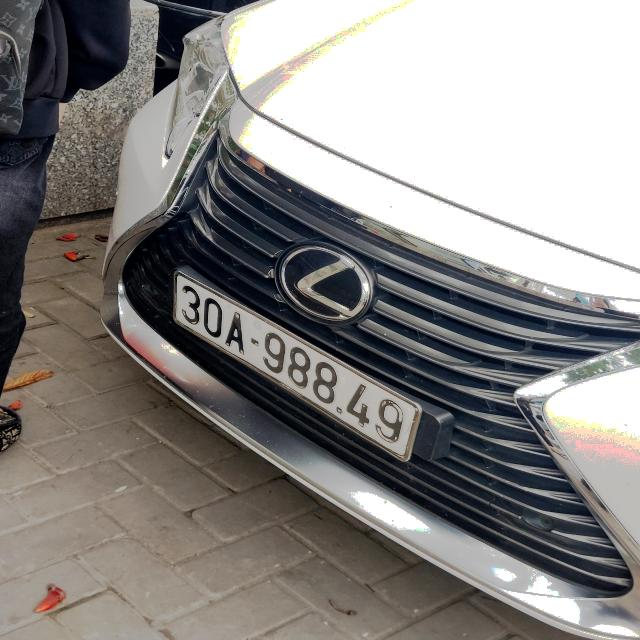license_plate: (175, 270, 423, 460)
